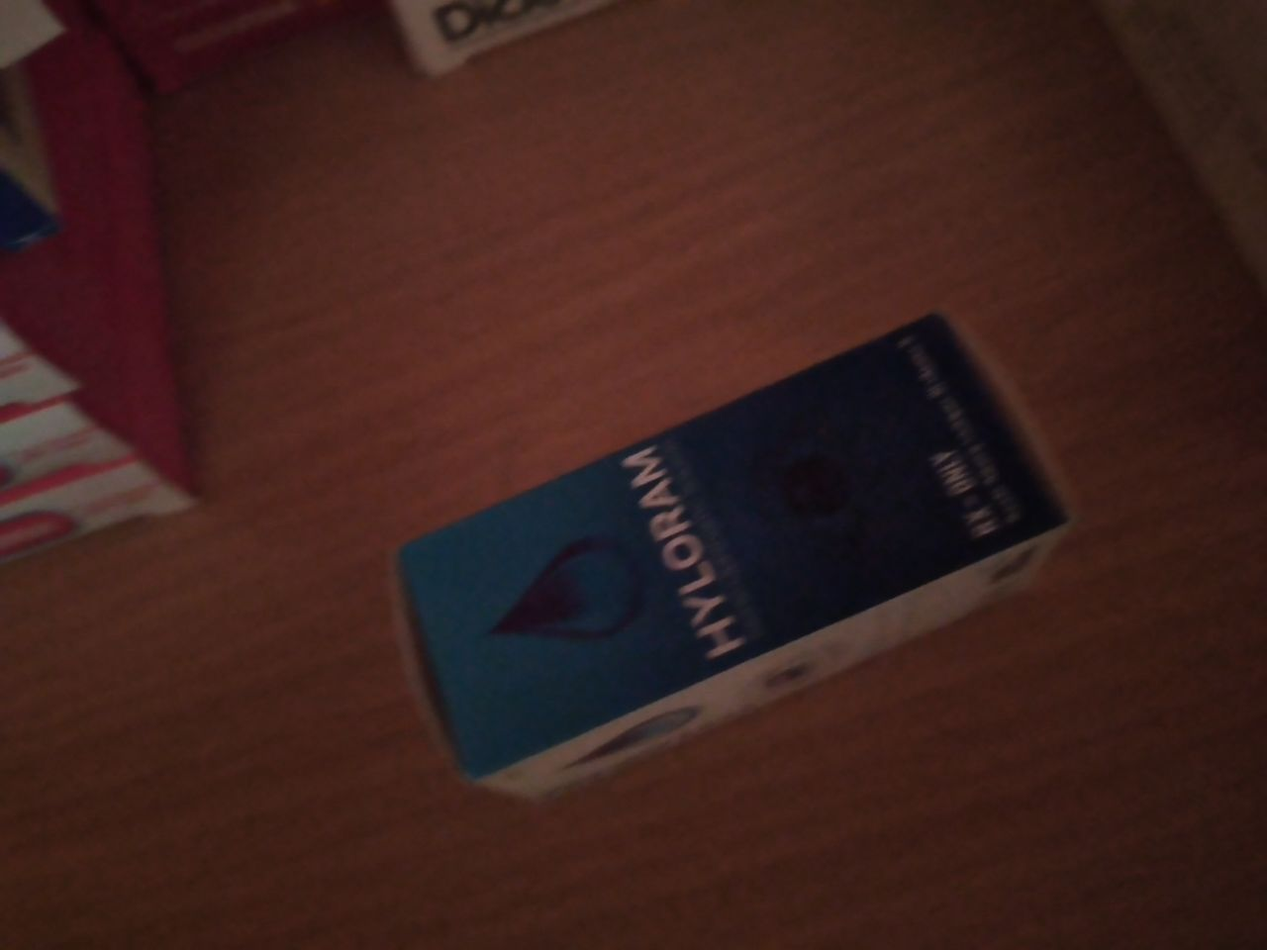Medicine: (374, 302, 1086, 849)
